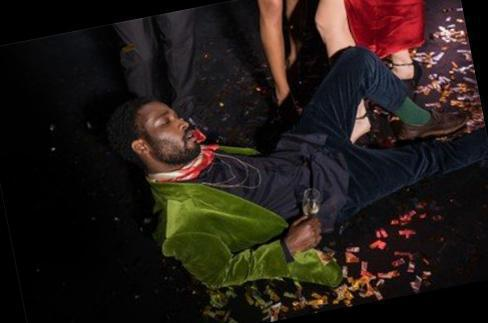Drunk: (142, 98, 199, 162)
